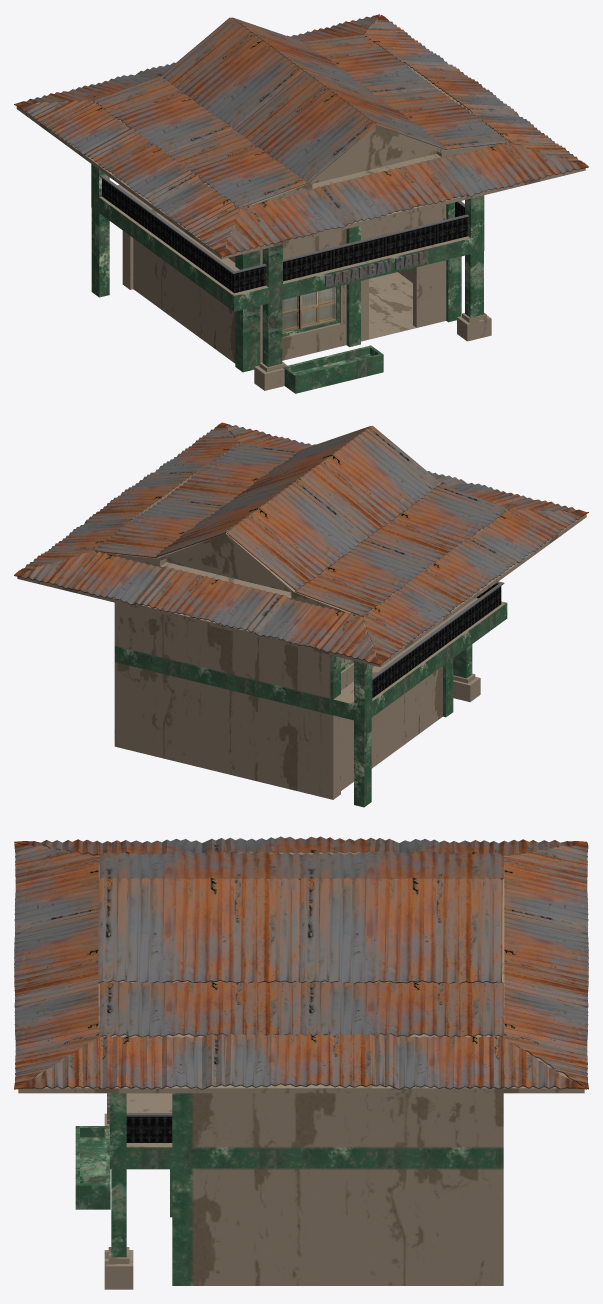
Rendered from Barangay.fbx.
3 views of the same model, one above another, from view 1: azimuth 30°, elevation 25°; view 2: azimuth 150°, elevation 25°; view 3: azimuth 270°, elevation 25° (orthographic). The views are drawn at different scales.
Parts seen in each view (by area): view 1: Barangay; view 2: Barangay; view 3: Barangay.
Part boxes in pixels (x1=…): Barangay: x1=14, y1=14, x2=588, y2=393; Barangay: x1=14, y1=422, x2=588, y2=807; Barangay: x1=14, y1=836, x2=588, y2=1289.
Bounding box in the file's own units: 1416 × 891 × 1394.
1 material, 1 textured.
